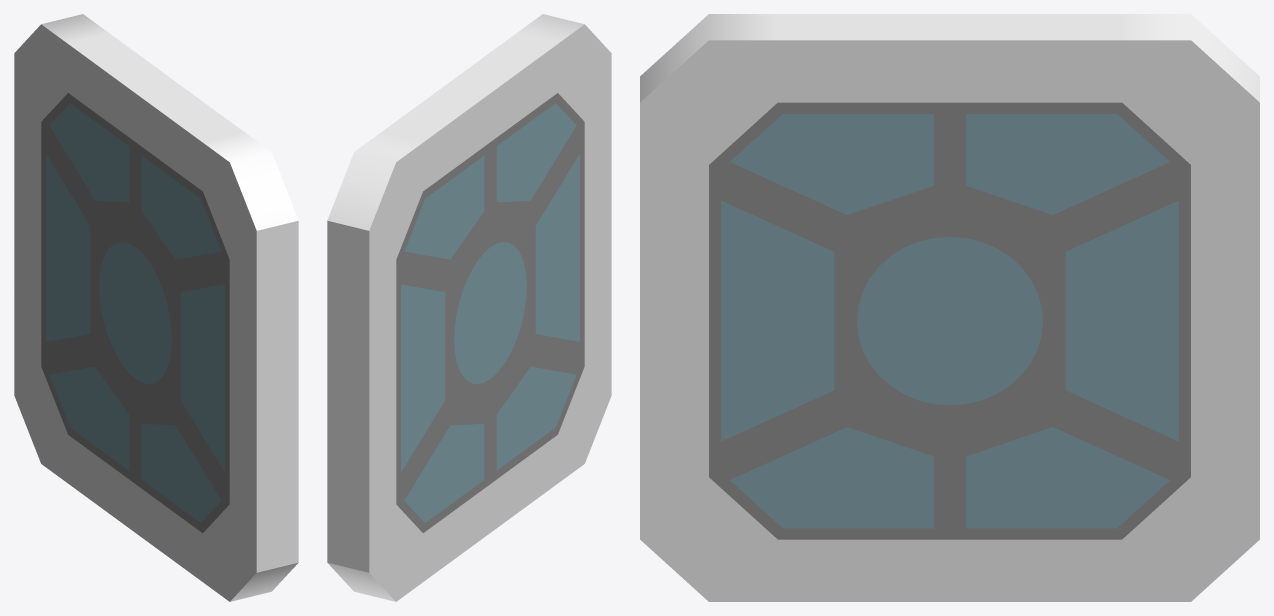
Rendered from Lv4Gate.fbx.
3 views of the same model, side by side, from view 1: azimuth 30°, elevation 25°; view 2: azimuth 150°, elevation 25°; view 3: azimuth 270°, elevation 25° (orthographic). The views are drawn at different scales.
Parts seen in each view (by area): view 1: Lv4, Glass, Window; view 2: Lv4, Glass, Window; view 3: Lv4, Glass, Window.
Part boxes in pixels (left/top/right/bottom): Lv4: left=14, top=14, right=298, bottom=601; Glass: left=46, top=103, right=224, bottom=522; Window: left=41, top=93, right=229, bottom=532; Lv4: left=327, top=14, right=611, bottom=601; Glass: left=401, top=103, right=579, bottom=522; Window: left=396, top=93, right=584, bottom=532; Lv4: left=640, top=14, right=1259, bottom=601; Glass: left=721, top=114, right=1178, bottom=528; Window: left=709, top=102, right=1190, bottom=539.
Bounding box in the file's own units: 5 × 50 × 50.
